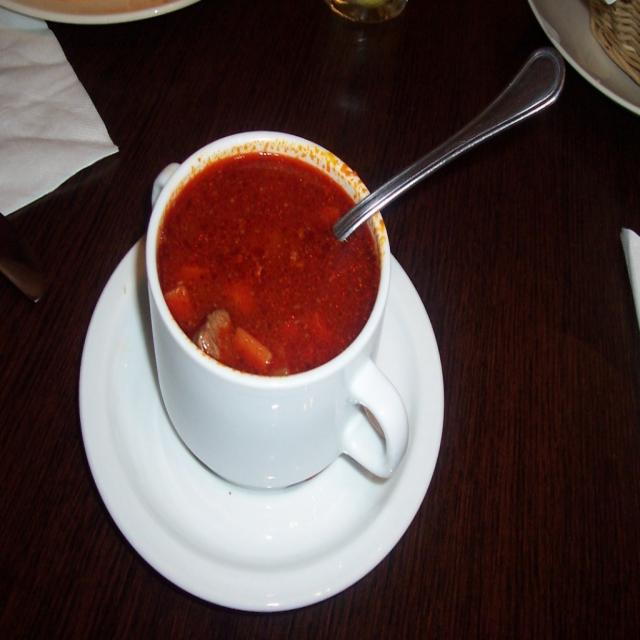non-organic waste: (67, 193, 444, 627)
